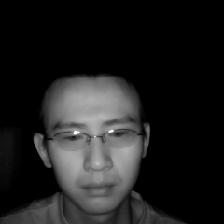normal: (23, 53, 159, 215)
